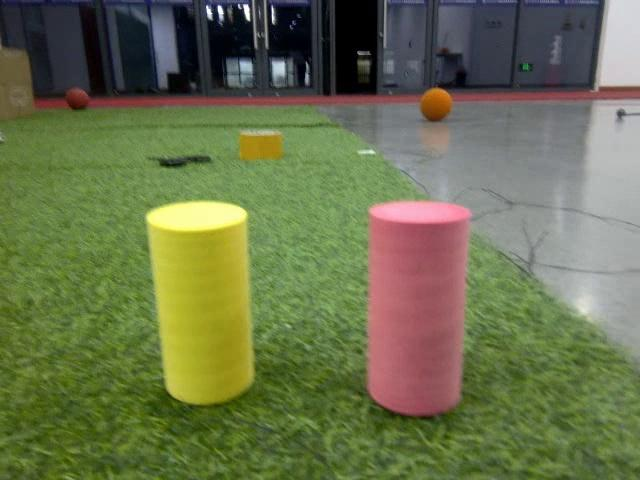orange_ball: (419, 88, 452, 123)
red_ball: (65, 86, 90, 111)
red_cylinder: (363, 197, 467, 417)
yellow_cylinder: (146, 198, 264, 405)
